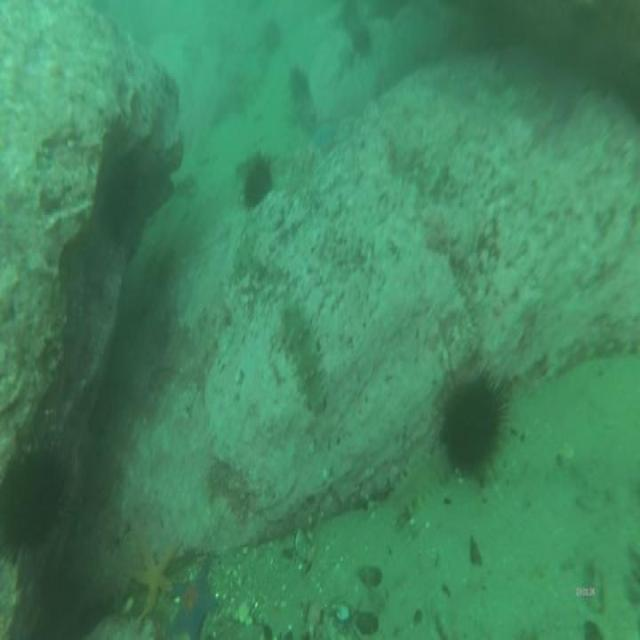echinus: (444, 382, 498, 471), (6, 468, 60, 556), (244, 158, 272, 210), (286, 65, 311, 104)
holothurian: (280, 300, 327, 416), (386, 447, 449, 523)
starfish: (130, 542, 172, 615), (174, 569, 213, 640), (310, 120, 334, 147)
